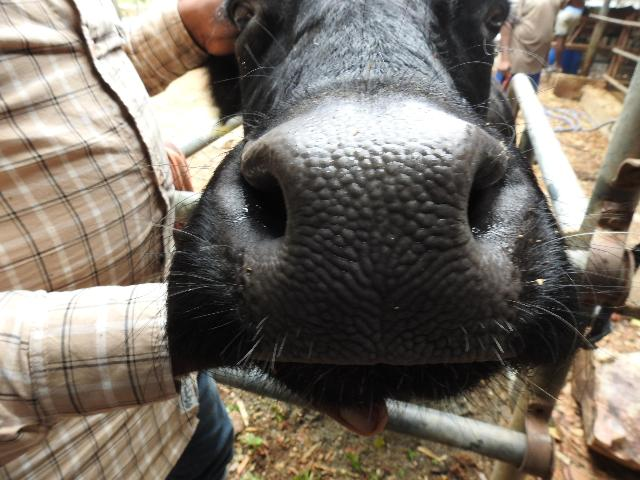Muzzle: (300, 145, 466, 358)
